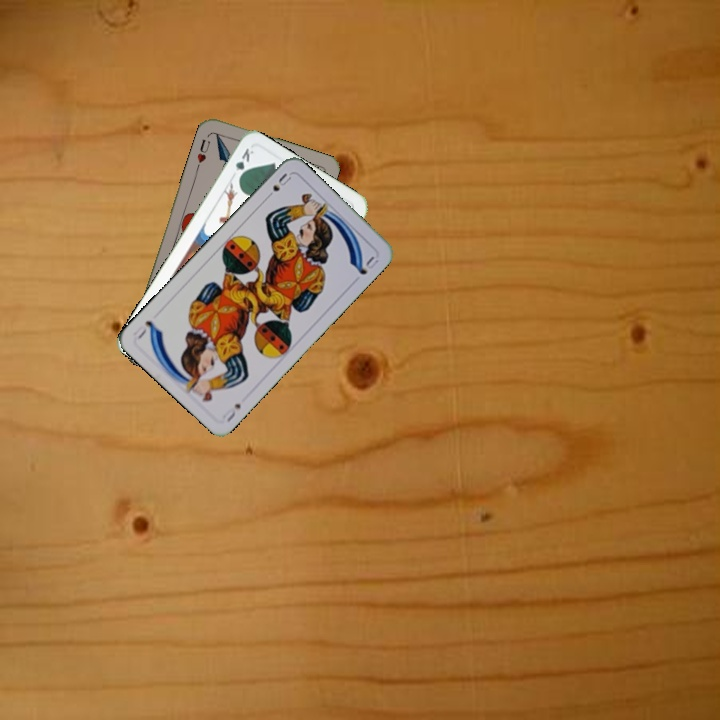GK: (227, 144, 256, 183)
HU: (193, 135, 213, 170)
SU: (261, 169, 294, 203), (218, 399, 244, 425)
